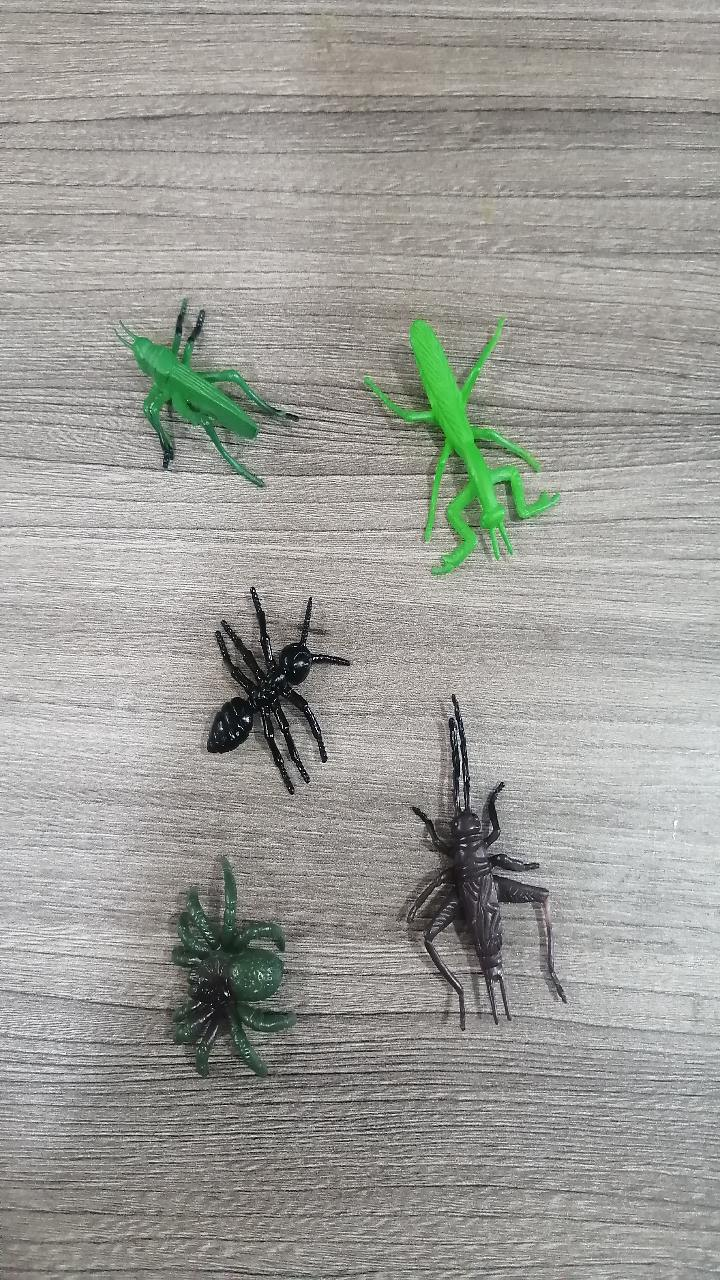intruso: (324, 272, 595, 609), (358, 666, 577, 1059), (126, 831, 366, 1095), (80, 245, 308, 520), (141, 545, 377, 803)
